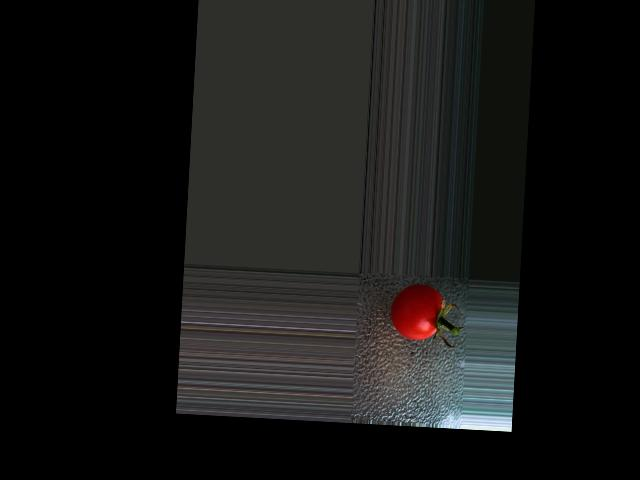tomato: (388, 283, 443, 342)
